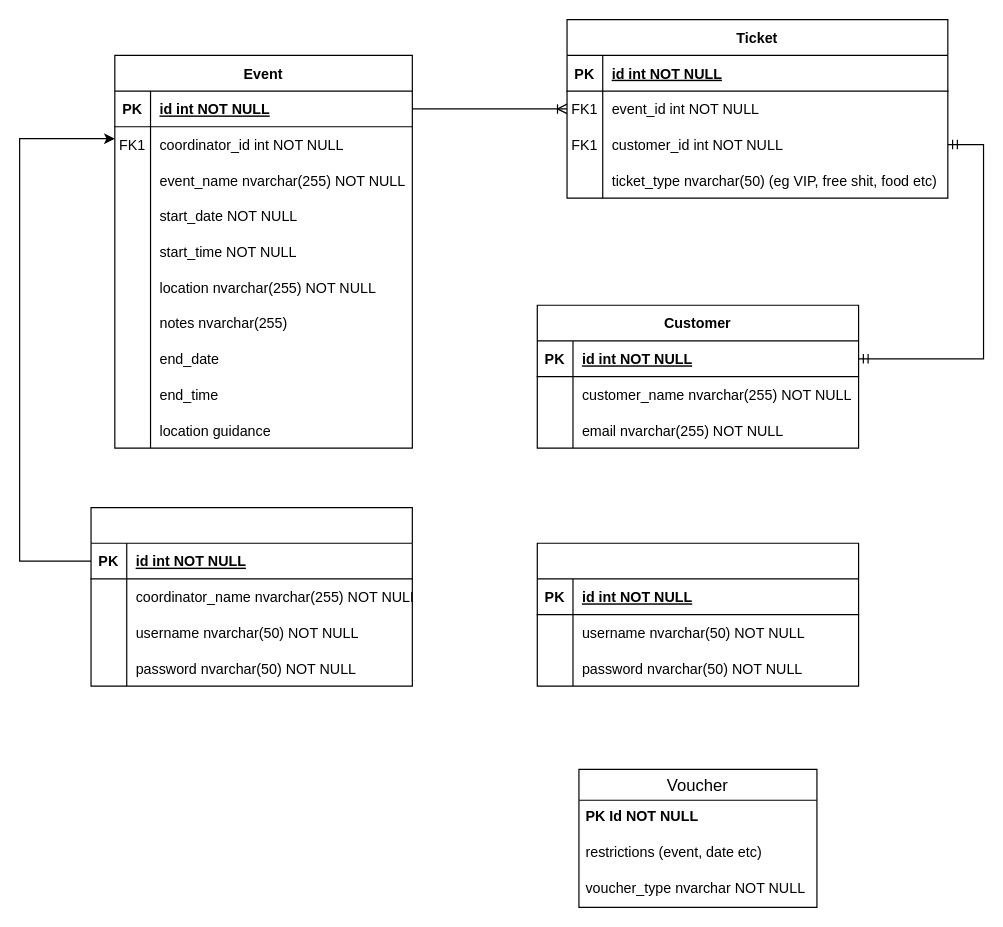
Some shapes in this 1003 by 927 pixel diagram are drawn without their labels. The box of each missing label's shape, as (x1, y1, x2, y2) in pixels:
Admin: (536, 542, 859, 686)
Event Coordinator: (90, 506, 412, 686)
